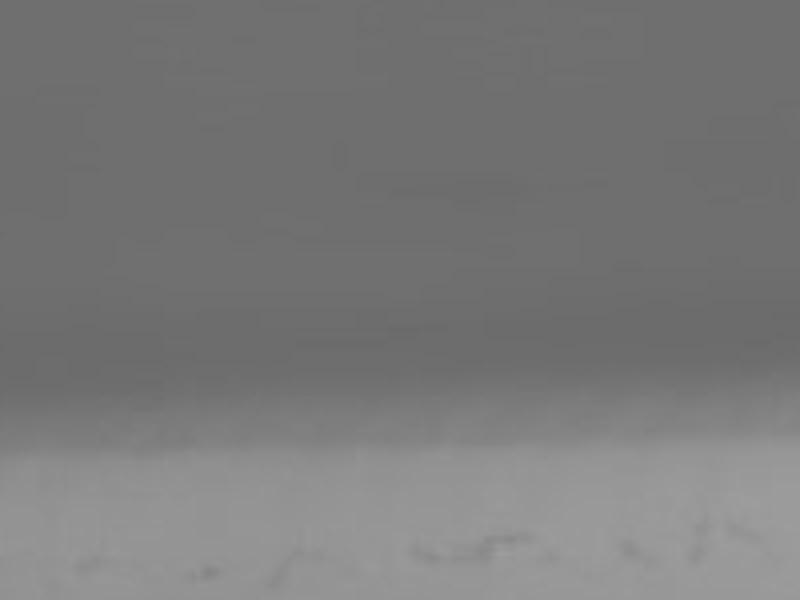defect: (411, 537, 441, 567), (470, 533, 497, 560), (74, 552, 100, 578), (727, 517, 752, 542), (621, 537, 641, 557), (503, 528, 523, 548), (265, 567, 285, 587), (540, 547, 560, 567), (690, 518, 709, 537), (686, 542, 705, 561), (201, 563, 218, 580), (290, 543, 305, 558), (643, 554, 658, 569)
